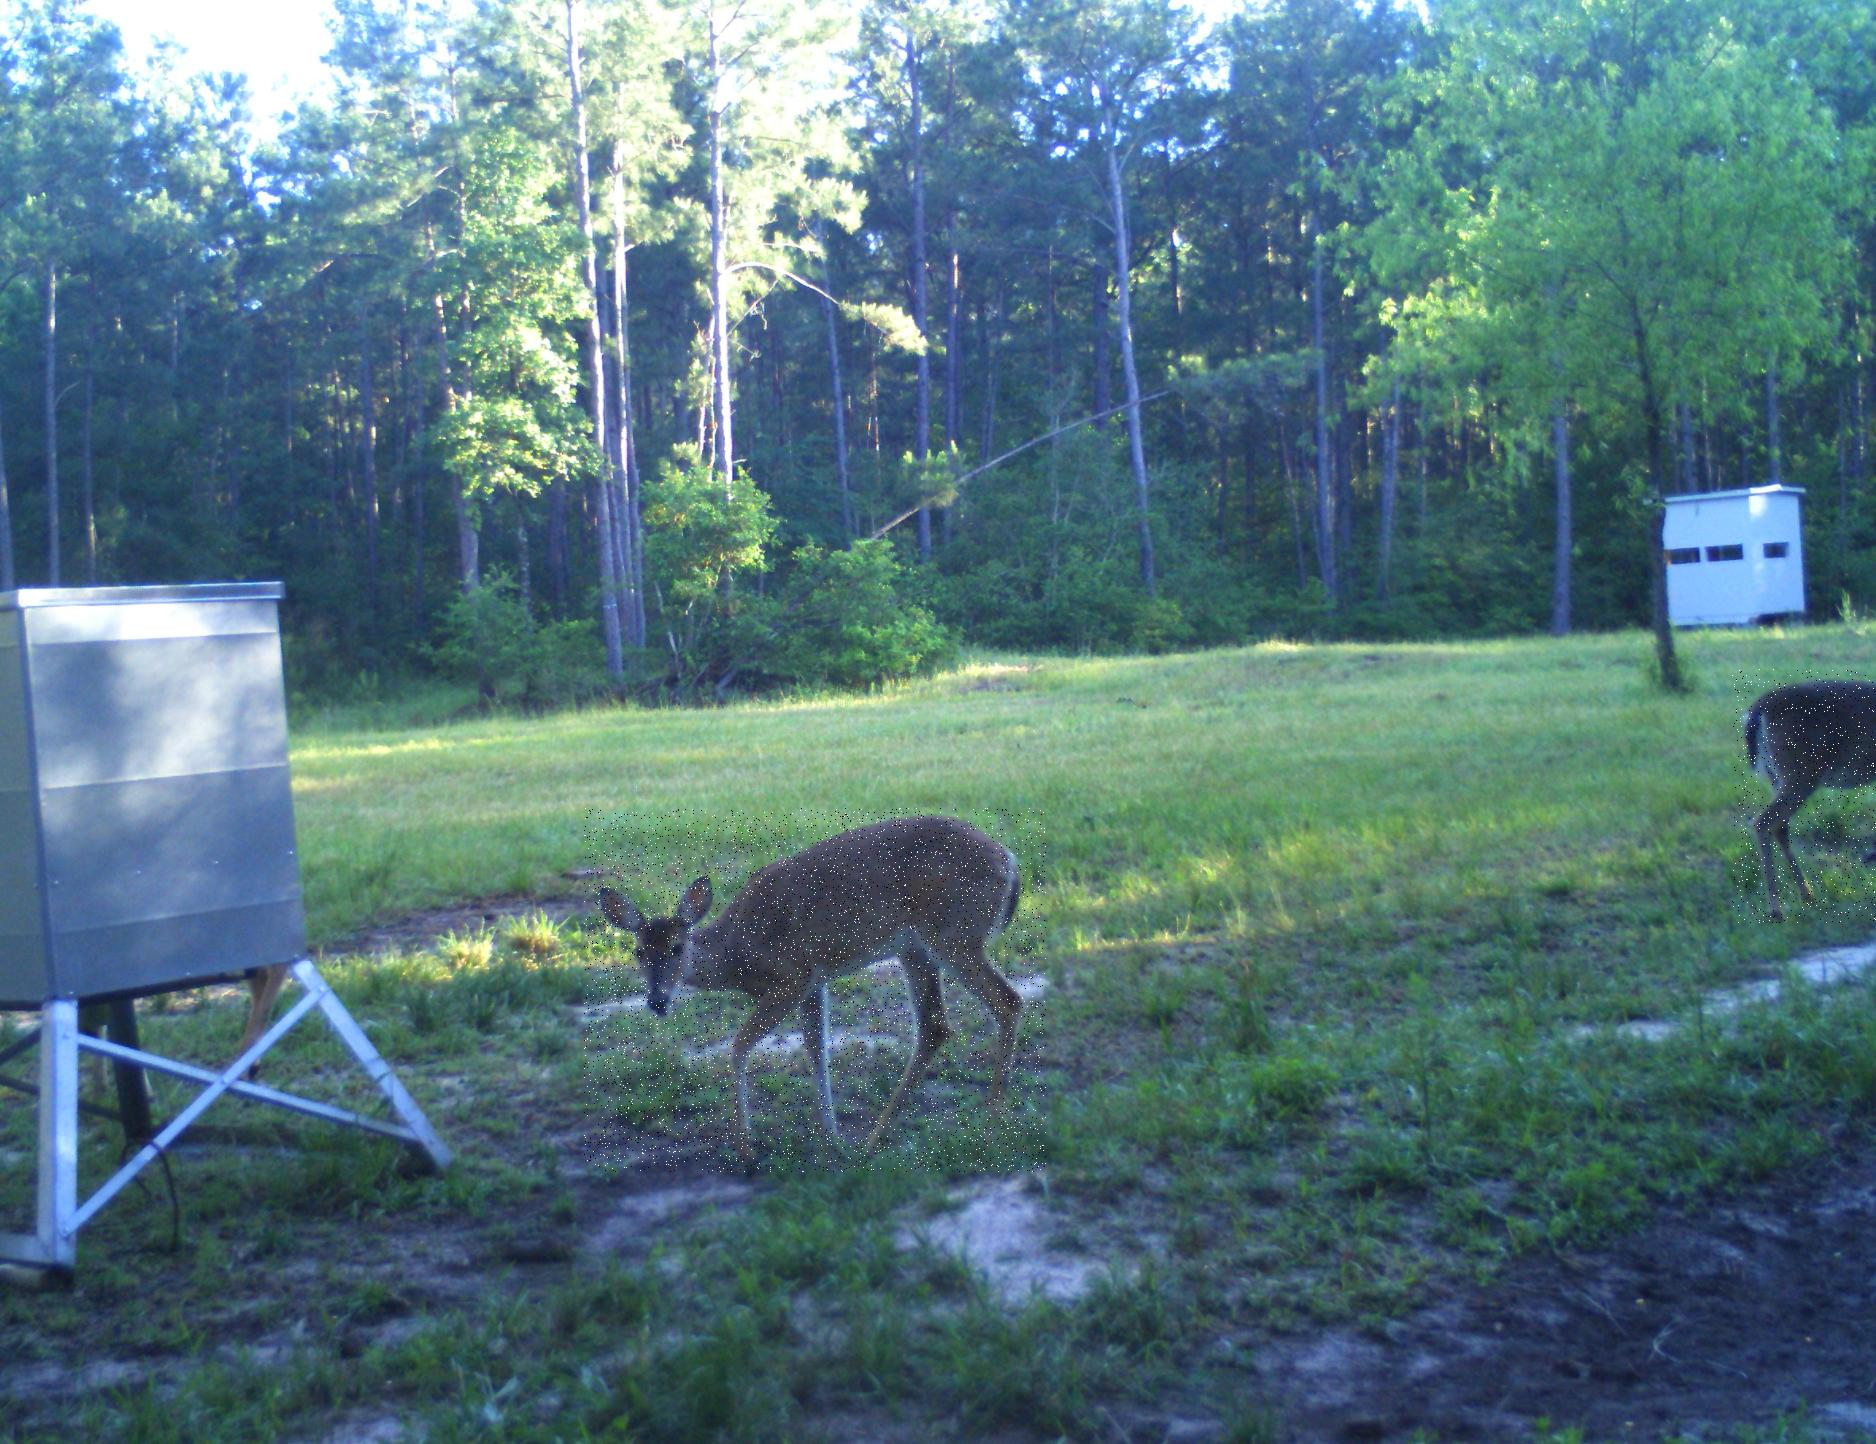Deer: (584, 808, 1046, 1172), (1732, 669, 1876, 924)
